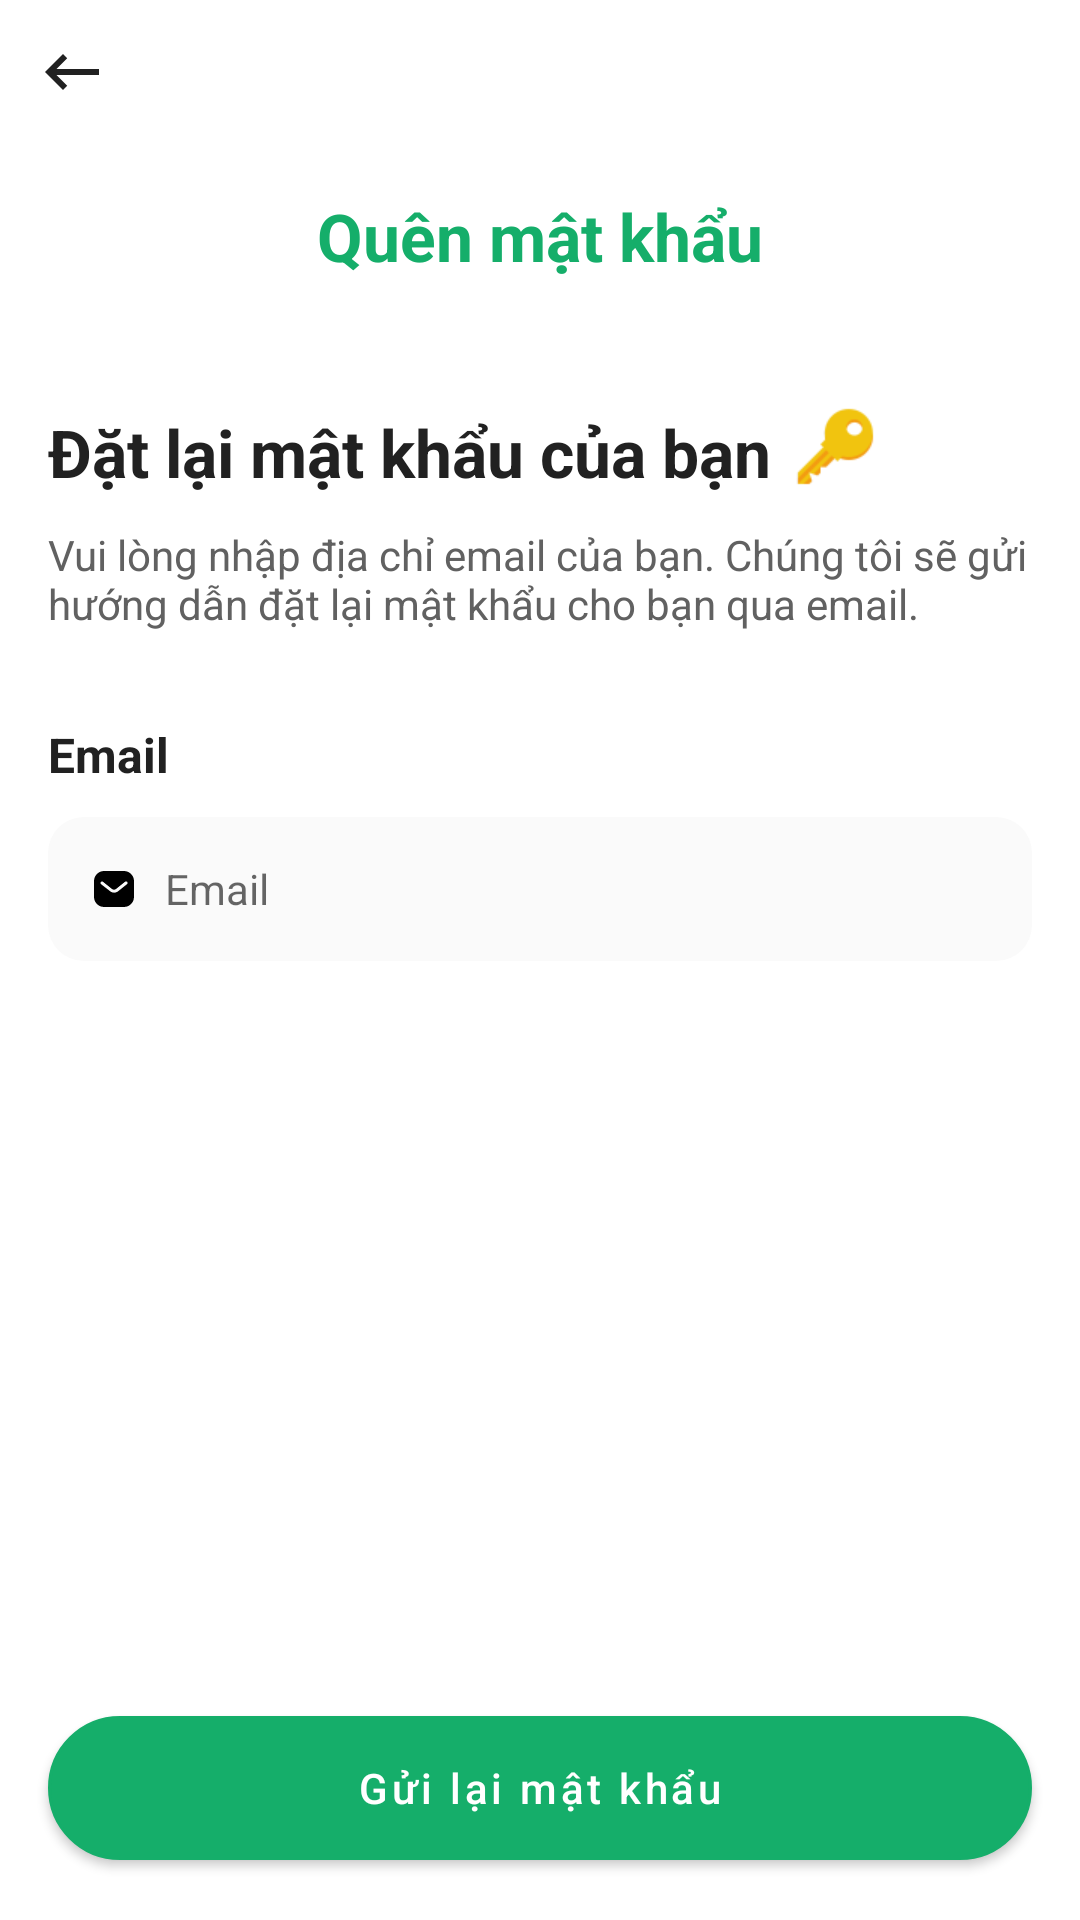

Icon bounding boxes for this 1080x1920 phone screenshot, format (x1, y1, x2, y2):
back: (45, 54, 99, 90)
key: (797, 408, 874, 485)
